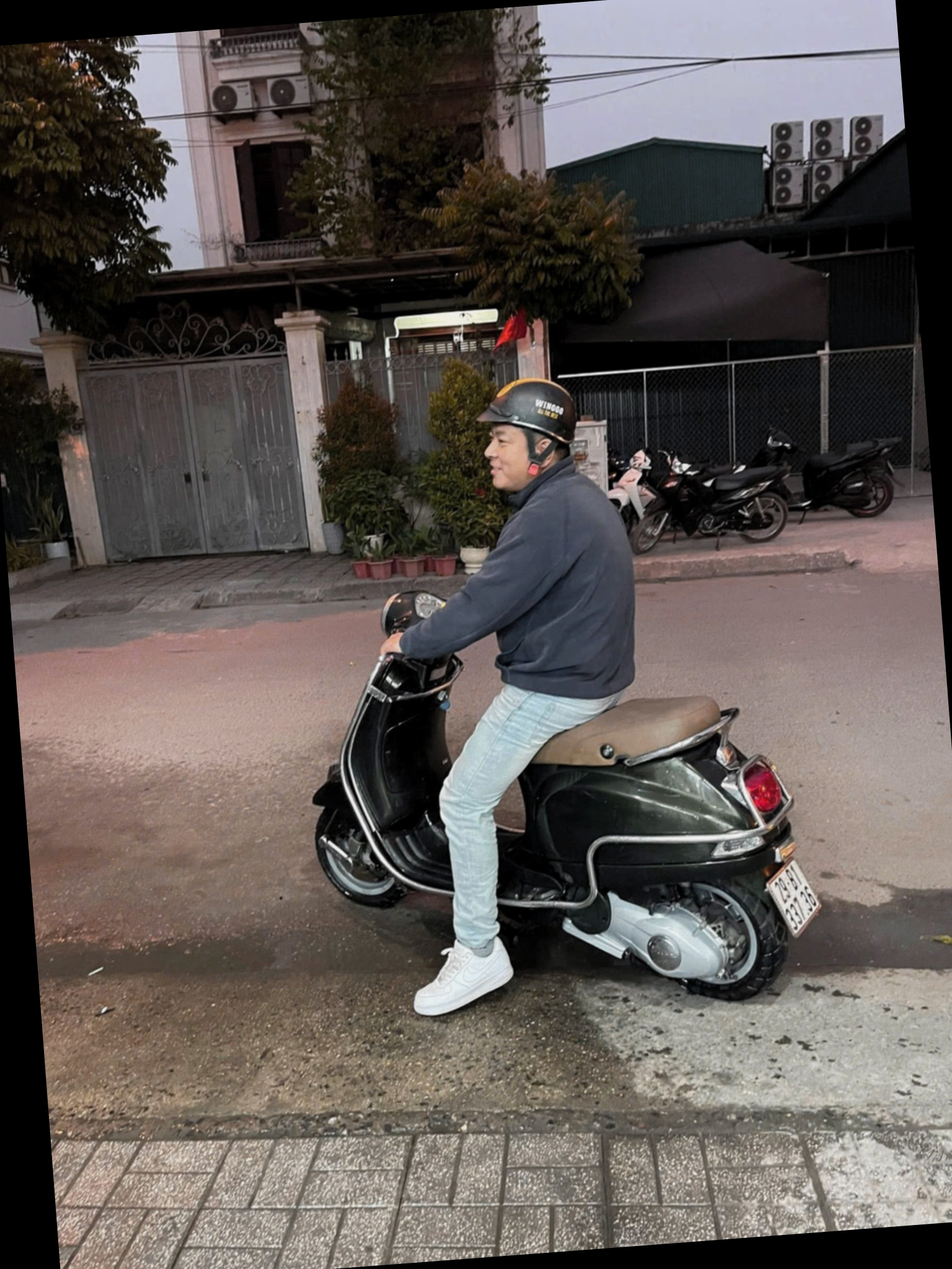Bien-so: (729, 870, 789, 947)
